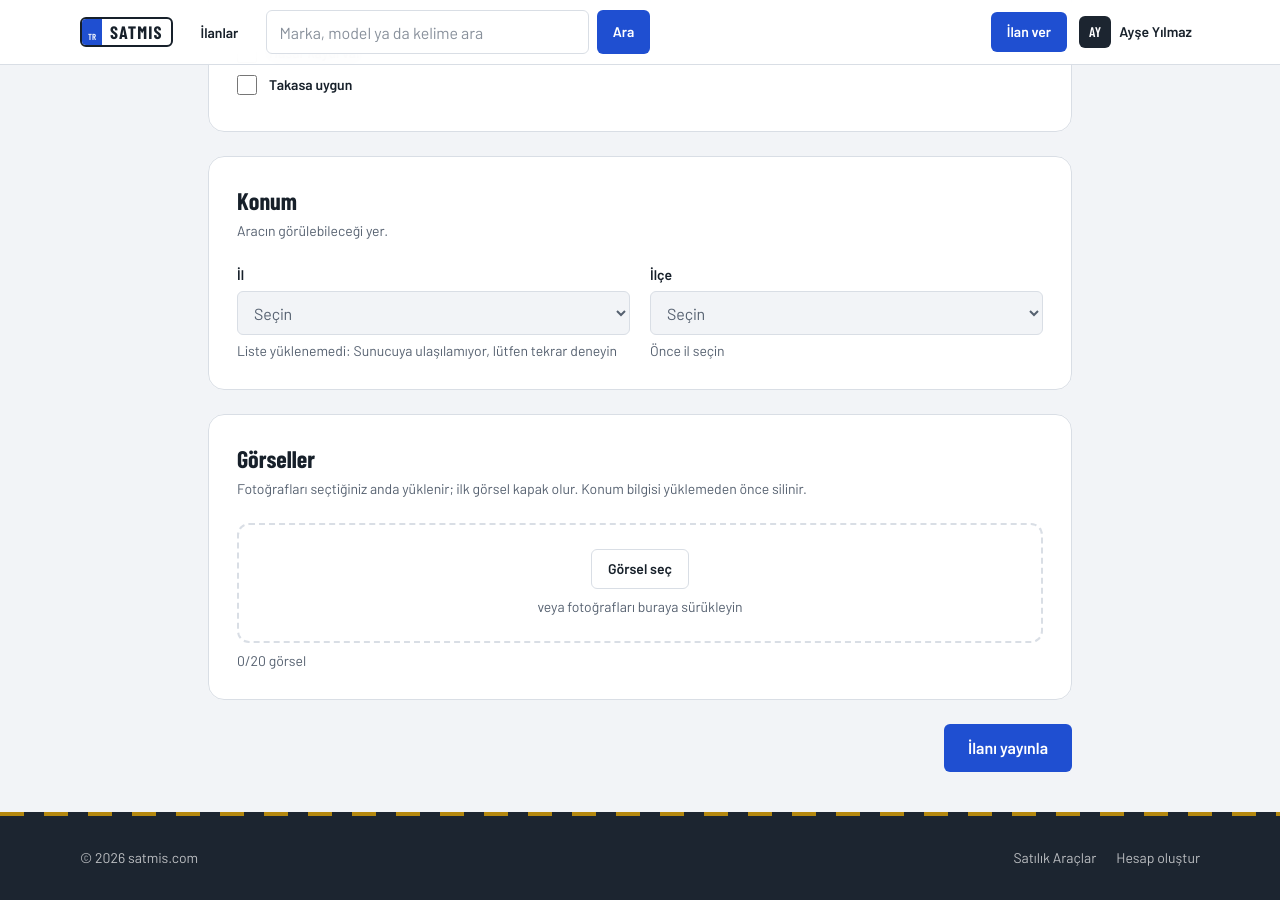
Scenario: CreateListingPage › emptySubmit_showsFieldErrorsWithoutRequest
This screenshot has width=1280, height=900.
(page scrolled)
Click the button "İlanı yayınla". click: click(1008, 748)
box: [944,724,1072,772]
(page scrolled)
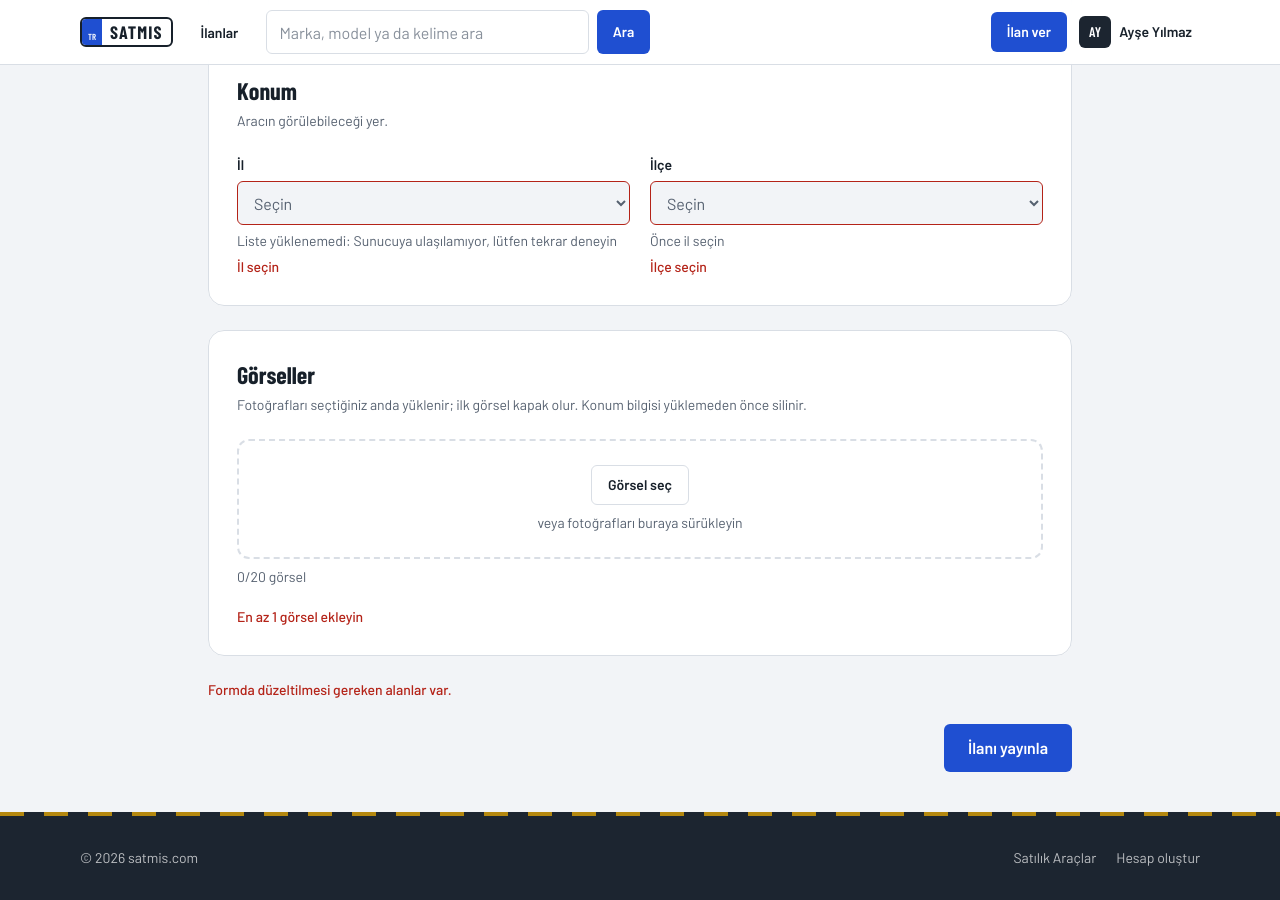
Expected: the text "En az 1 görsel ekleyin" is shown, [237,608,363,625]
